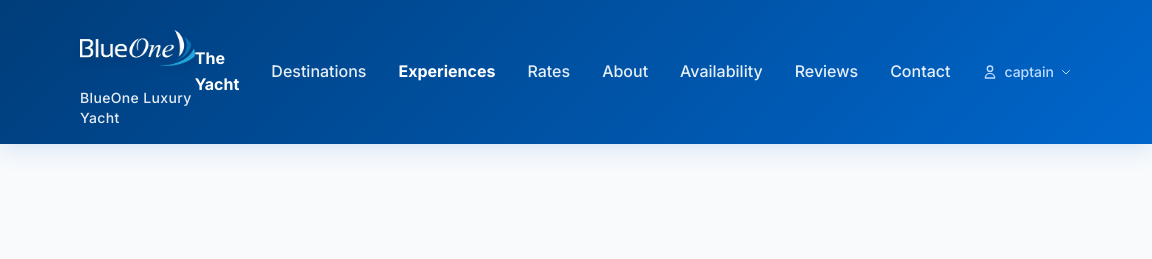
Scenario: Navigation — Authenticated Admin › shows "Dashboard" link for /admin page when admin dropdown is open
# Open admin dropdown (click the username button)
Click the button "captain": [1027, 72] box [982, 62, 1072, 82]
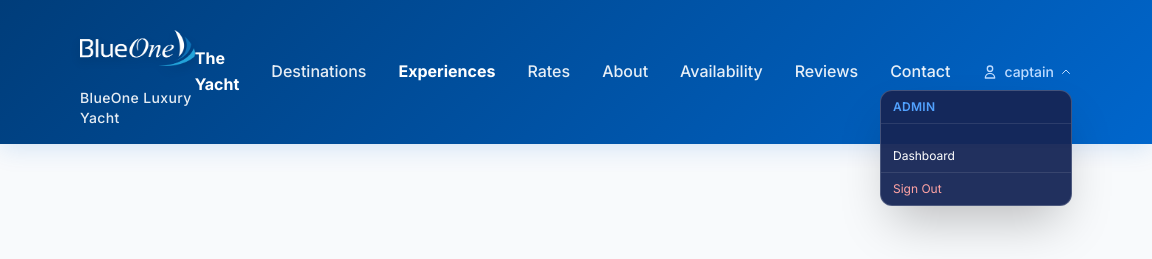
Result: the link "Dashboard" is shown at [893, 148, 955, 163]
